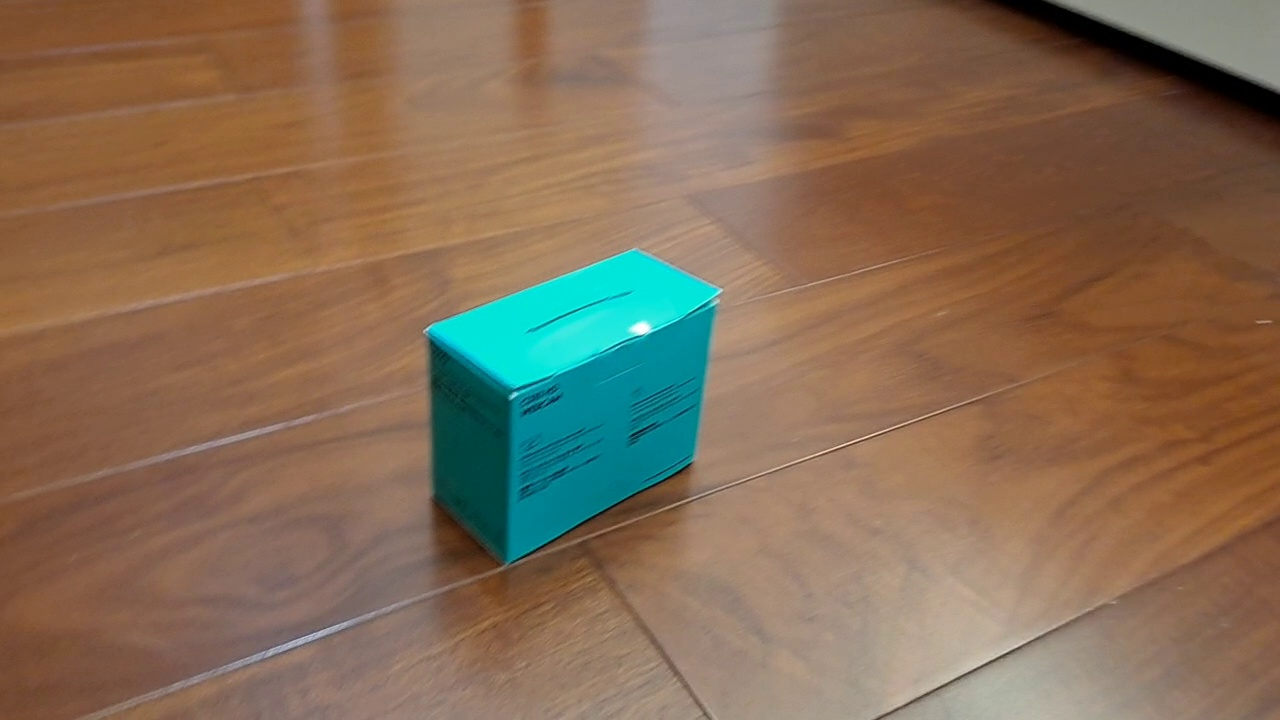webcam: (422, 246, 724, 569)
